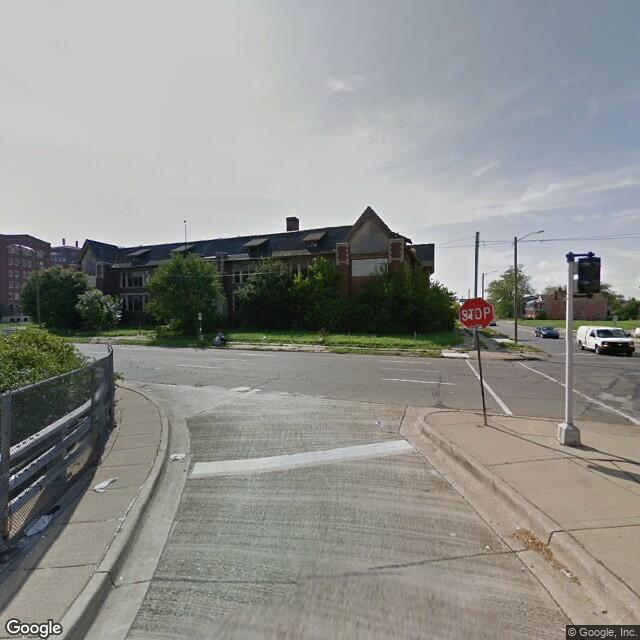litter: (19, 513, 52, 538), (95, 475, 117, 492), (170, 450, 188, 460), (262, 333, 270, 342), (318, 338, 325, 343)
